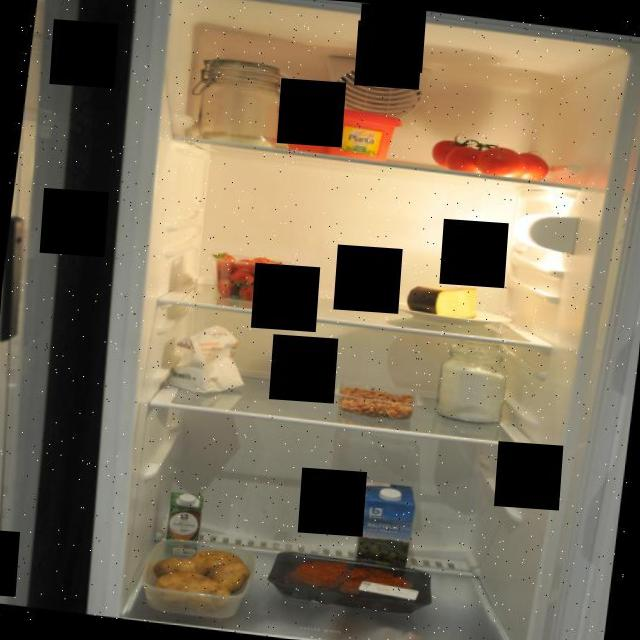Carne vacuno: (264, 548, 436, 618)
Gambas/Langostinos: (335, 382, 419, 418)
Leche: (350, 476, 419, 582)
Mantequilla: (274, 99, 404, 164)
Patata: (143, 534, 259, 624)
Queso: (403, 278, 484, 322)
Tomate: (426, 127, 557, 186)
